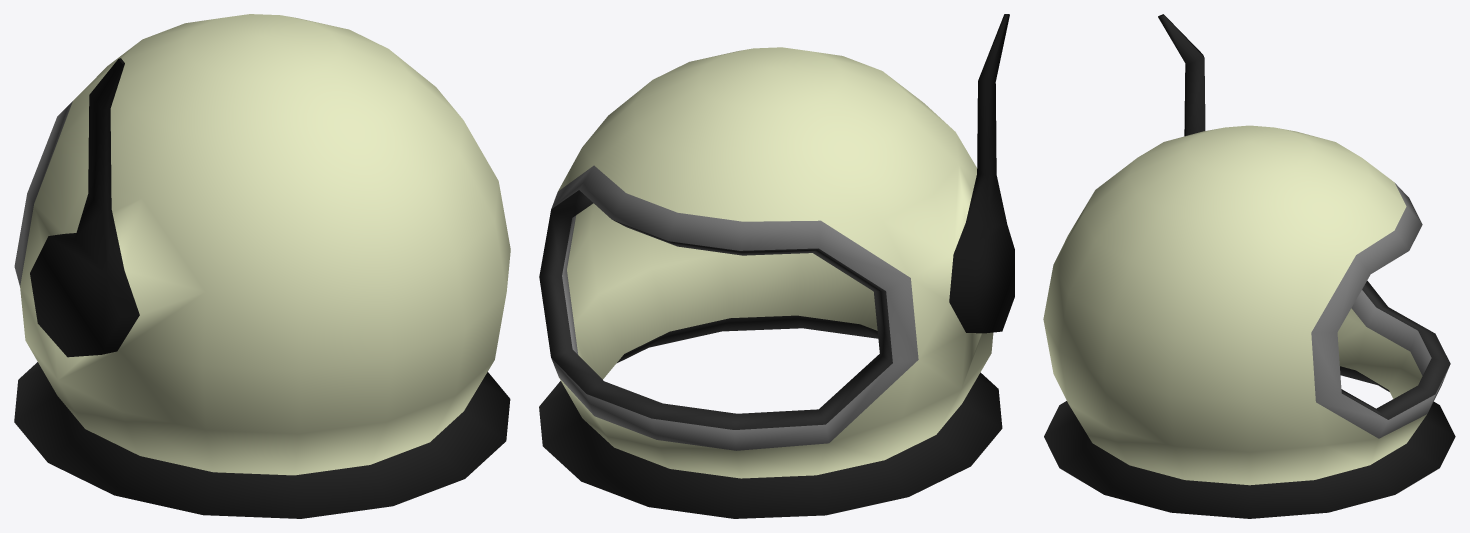
Rendered from AstronautHelmet.gltf.
The picture shows the model from 3 angles, left to right: view 1: azimuth 30°, elevation 25°; view 2: azimuth 150°, elevation 25°; view 3: azimuth 270°, elevation 25°; orthographic projection. The views are drawn at different scales.
Visible parts, largest first — view 1: HELMET; view 2: HELMET; view 3: HELMET.
Boxes of the visible parts, x1,y1,x2,y2 form: HELMET: (14,14,510,518); HELMET: (539,14,1014,518); HELMET: (1043,14,1455,518).
Bounding box in the file's own units: 0.4282 × 0.408 × 0.44.
Materials: 1 (1 with a texture image).
